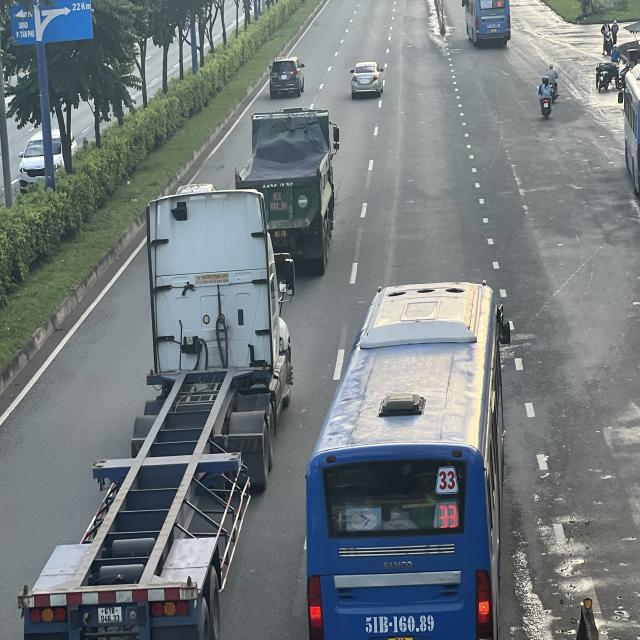car: (269, 56, 306, 99), (348, 61, 384, 99)
coach: (306, 279, 508, 640), (464, 0, 512, 45)
container: (23, 191, 288, 640), (235, 110, 342, 278)
